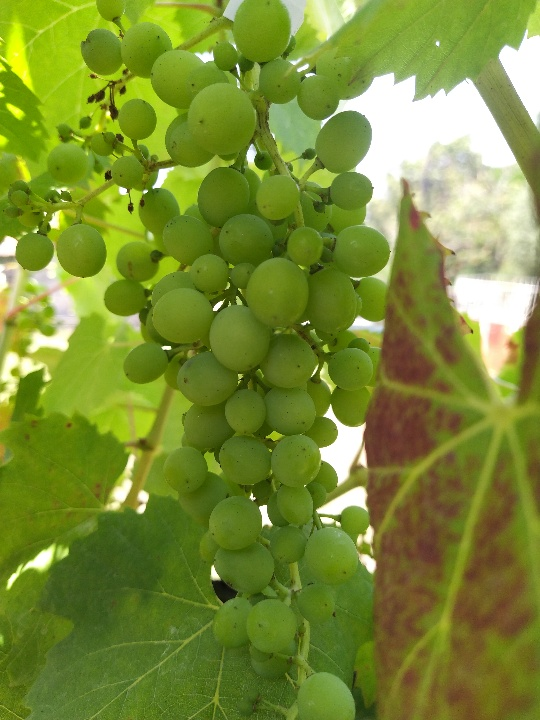grape: (8, 4, 389, 714)
